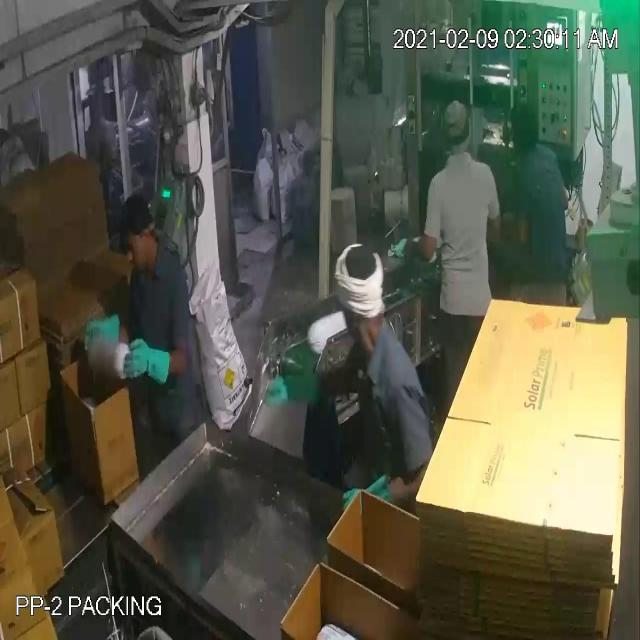gloves: (253, 357, 329, 416), (119, 334, 176, 396), (77, 309, 125, 354)
